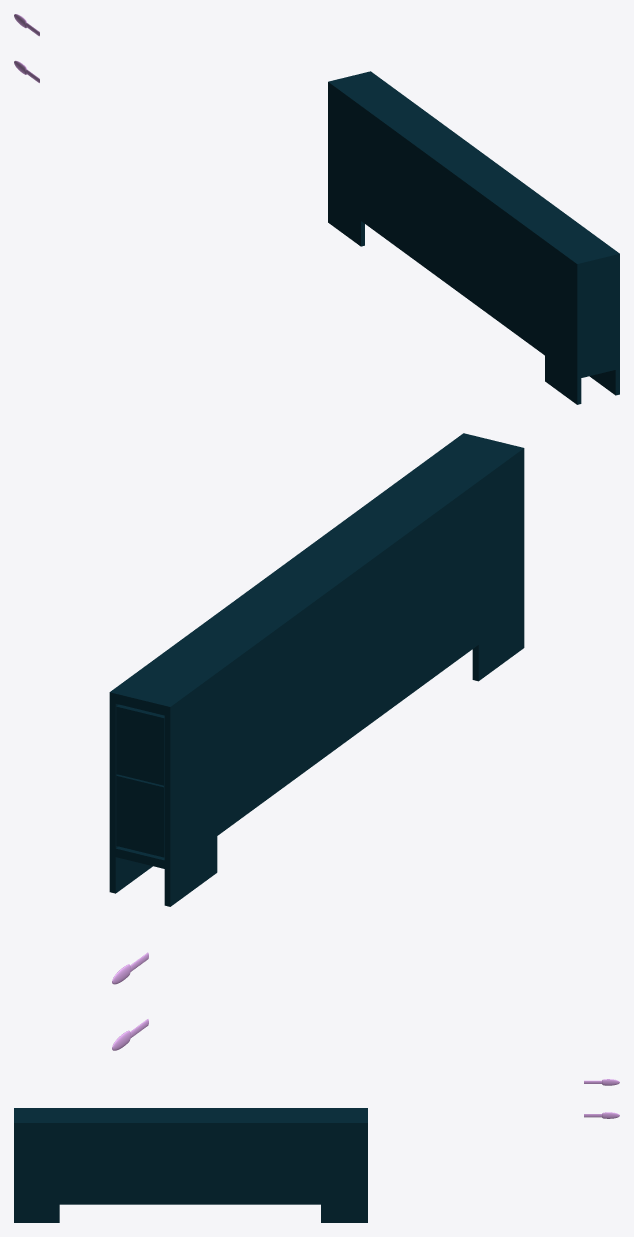
File: table bed.fbx
The picture shows the model from 3 angles, top to bottom: view 1: azimuth 30°, elevation 25°; view 2: azimuth 150°, elevation 25°; view 3: azimuth 270°, elevation 25°; orthographic projection. The views are drawn at different scales.
Visible parts, largest first — view 1: polySurface11; view 2: polySurface11; view 3: polySurface11.
Boxes of the visible parts, x1,y1,x2,y2 form: polySurface11: [328, 71, 619, 404]; polySurface11: [109, 433, 524, 906]; polySurface11: [14, 1108, 367, 1222].
Size of the model in its own units: 0.7988 by 0.596 by 3.27.
